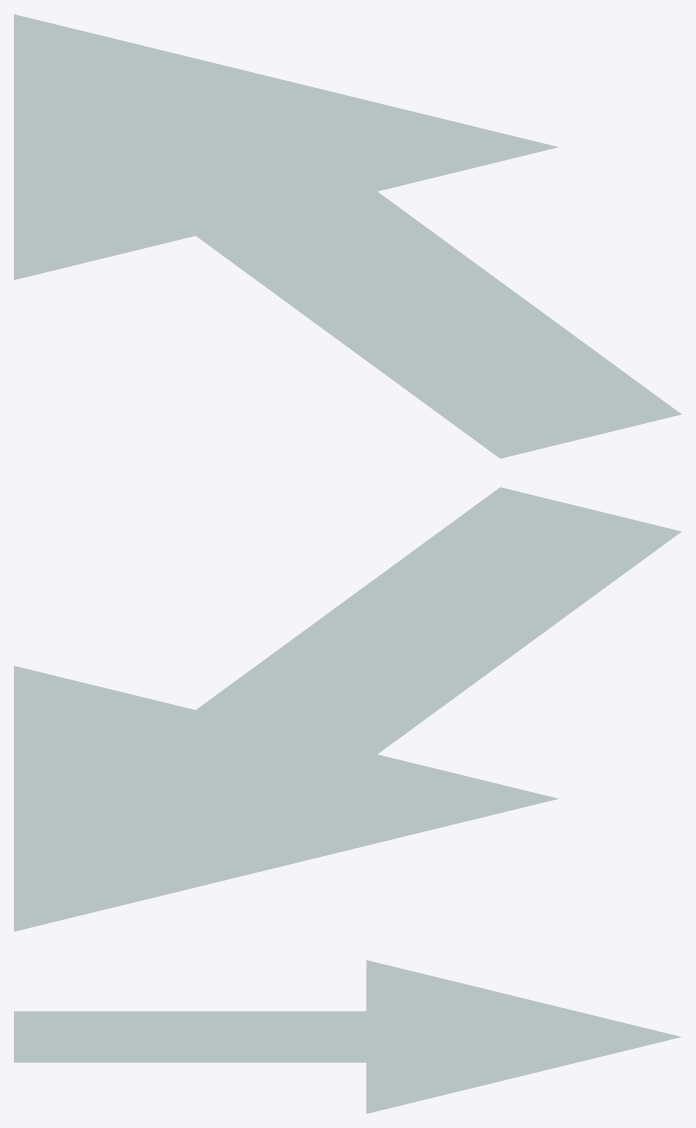
File: Arrow.glb
The picture shows the model from 3 angles, top to bottom: view 1: azimuth 30°, elevation 25°; view 2: azimuth 150°, elevation 25°; view 3: azimuth 270°, elevation 25°; orthographic projection. The views are drawn at different scales.
Visible parts, largest first — view 1: Circle; view 2: Circle; view 3: Circle.
Part boxes in pixels (<box>): Circle: <box>14,14,681,458</box>; Circle: <box>14,487,681,931</box>; Circle: <box>14,960,680,1113</box>.
Size of the model in its own units: 1.73 by 0 by 3.18.
Materials: 1 (1 with a texture image).
